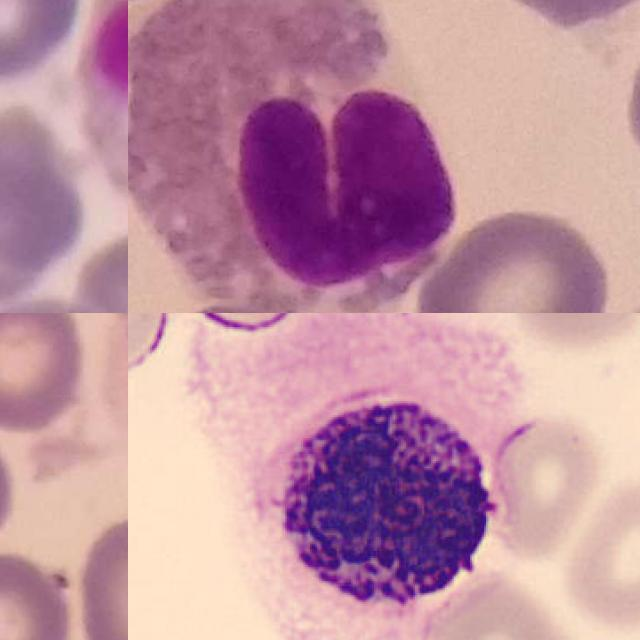Basophil: (237, 380, 509, 623)
Eosinophil: (128, 0, 459, 313), (74, 0, 128, 226)
RBC: (485, 408, 604, 560), (557, 466, 640, 635), (415, 566, 582, 640)
